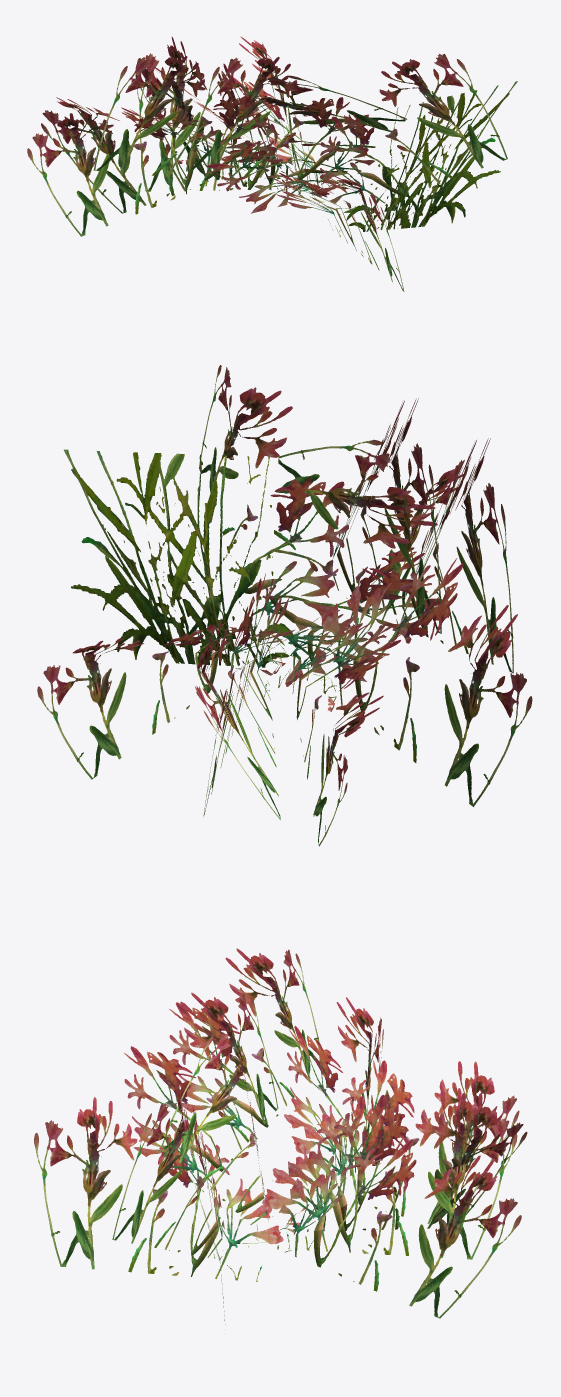
Rendered from SC001Jzhiwu_03.FBX.
3 renders of one model, top to bottom at view 1: azimuth 30°, elevation 25°; view 2: azimuth 150°, elevation 25°; view 3: azimuth 270°, elevation 25°, orthographic. The views are drawn at different scales.
Visible parts, largest first — view 1: SC001Jzhiwu_03; view 2: SC001Jzhiwu_03; view 3: SC001Jzhiwu_03.
Boxes of the visible parts, left/top/right/bottom form: SC001Jzhiwu_03: left=27, top=36, right=517, bottom=291; SC001Jzhiwu_03: left=37, top=365, right=532, bottom=846; SC001Jzhiwu_03: left=34, top=948, right=527, bottom=1324.
Bounding box in the file's own units: 4.14 × 2.28 × 3.68.
